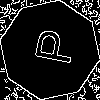P: (25, 25, 76, 67)
